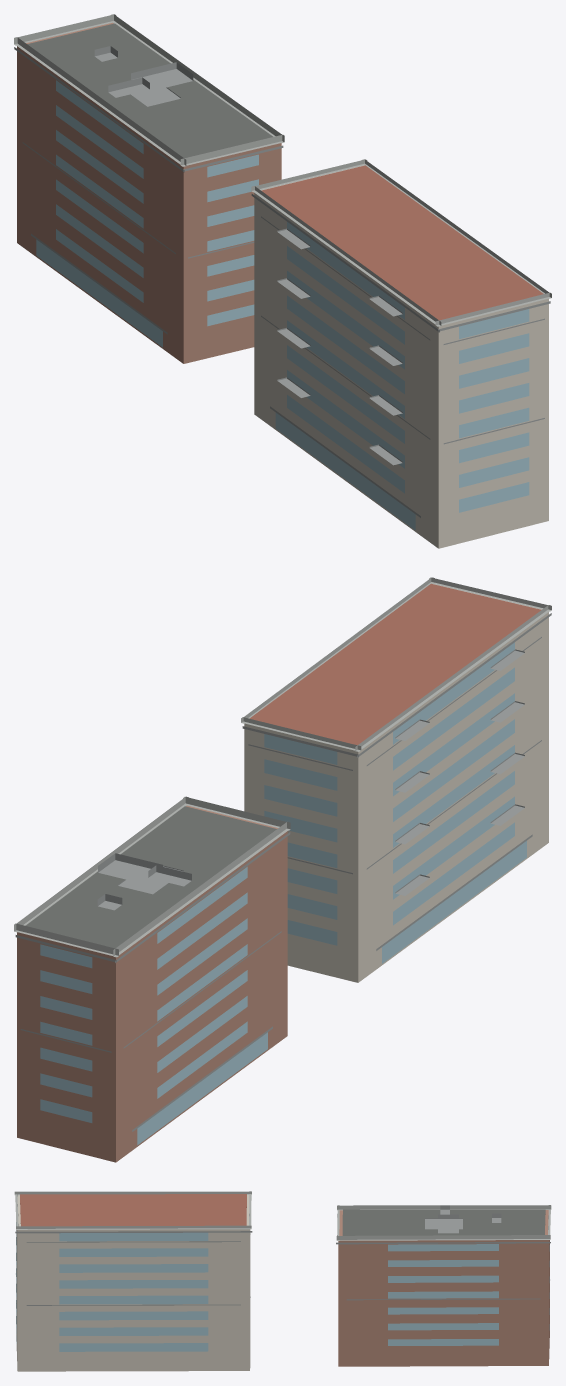
Rendered from tile-m004-m002.glb.
The picture shows the model from 3 angles, top to bottom: view 1: azimuth 30°, elevation 25°; view 2: azimuth 150°, elevation 25°; view 3: azimuth 270°, elevation 25°; orthographic projection. The views are drawn at different scales.
Parts seen in each view (by area): view 1: building-0016-mesh-0, building-0021-mesh-6, building-0016-mesh-1, building-0016-mesh-4, building-0021-mesh-7, building-0021-mesh-9, building-0021-mesh-10, building-0016-mesh-5, building-0021-mesh-11, building-0016-mesh-3, building-0016-mesh-2, building-0021-mesh-8; view 2: building-0021-mesh-6, building-0016-mesh-0, building-0016-mesh-1, building-0016-mesh-4, building-0021-mesh-7, building-0021-mesh-9, building-0021-mesh-10, building-0016-mesh-5, building-0021-mesh-11, building-0016-mesh-3, building-0016-mesh-2, building-0021-mesh-8; view 3: building-0016-mesh-0, building-0021-mesh-6, building-0016-mesh-1, building-0016-mesh-4, building-0021-mesh-7, building-0021-mesh-9, building-0021-mesh-10, building-0016-mesh-5, building-0016-mesh-2, building-0021-mesh-11, building-0021-mesh-8.
Boxes of the visible parts, box(x1,y1,x2,y2) form: building-0016-mesh-0: box(254, 165, 548, 548); building-0021-mesh-6: box(17, 22, 281, 363); building-0016-mesh-1: box(275, 222, 529, 530); building-0016-mesh-4: box(261, 165, 543, 320); building-0021-mesh-7: box(36, 80, 258, 347); building-0021-mesh-9: box(27, 23, 273, 158); building-0021-mesh-10: box(14, 14, 284, 166); building-0016-mesh-5: box(251, 159, 551, 326); building-0021-mesh-11: box(94, 46, 193, 106); building-0016-mesh-3: box(277, 228, 402, 465); building-0016-mesh-2: box(251, 194, 550, 517); building-0021-mesh-8: box(14, 47, 283, 334); building-0021-mesh-6: box(17, 805, 287, 1162); building-0016-mesh-0: box(244, 584, 548, 982); building-0016-mesh-1: box(264, 642, 526, 963); building-0016-mesh-4: box(250, 583, 541, 745); building-0021-mesh-7: box(40, 866, 267, 1145); building-0021-mesh-9: box(25, 806, 276, 948); building-0021-mesh-10: box(14, 796, 290, 957); building-0016-mesh-5: box(241, 577, 551, 751); building-0021-mesh-11: box(97, 853, 191, 910); building-0016-mesh-3: box(395, 649, 524, 895); building-0016-mesh-2: box(242, 613, 551, 950); building-0021-mesh-8: box(15, 832, 290, 1131); building-0016-mesh-0: box(16, 1195, 250, 1371); building-0021-mesh-6: box(338, 1210, 549, 1366); building-0016-mesh-1: box(16, 1222, 208, 1351); building-0016-mesh-4: box(20, 1194, 246, 1226); building-0021-mesh-7: box(388, 1244, 549, 1345); building-0021-mesh-9: box(342, 1209, 545, 1235); building-0021-mesh-10: box(336, 1205, 551, 1240); building-0016-mesh-5: box(14, 1191, 251, 1229); building-0016-mesh-2: box(15, 1230, 252, 1305); building-0021-mesh-11: box(425, 1205, 501, 1233); building-0021-mesh-8: box(336, 1242, 550, 1300).
Size of the model in its own units: 17.67 by 30.7 by 103.
